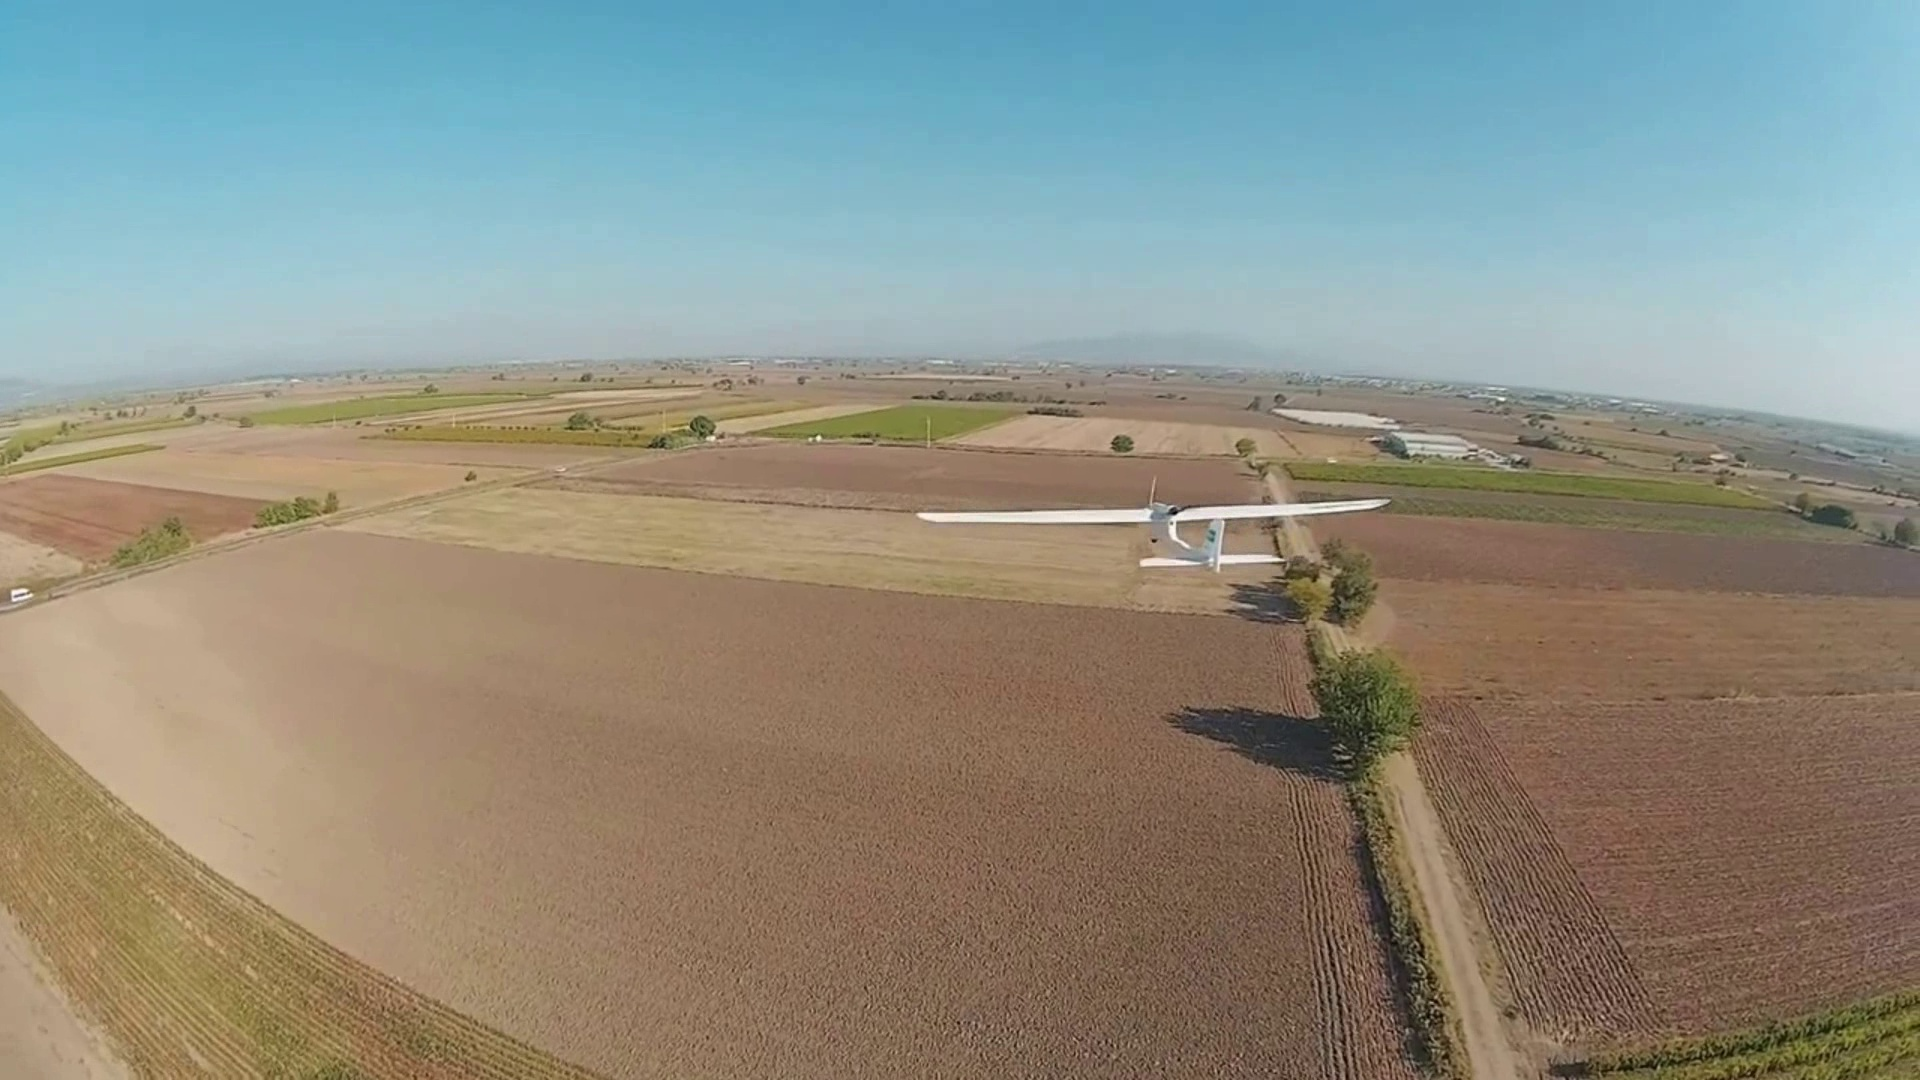airplane: (1137, 495, 1391, 572)
